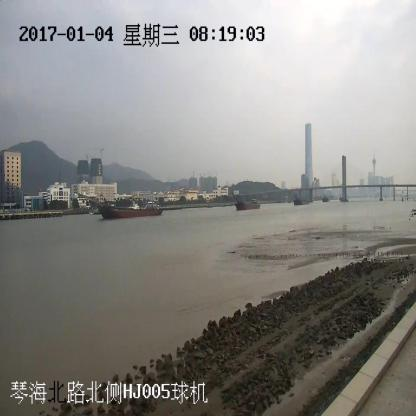Bulk Carrier: (79, 193, 164, 216), (233, 194, 260, 209)
